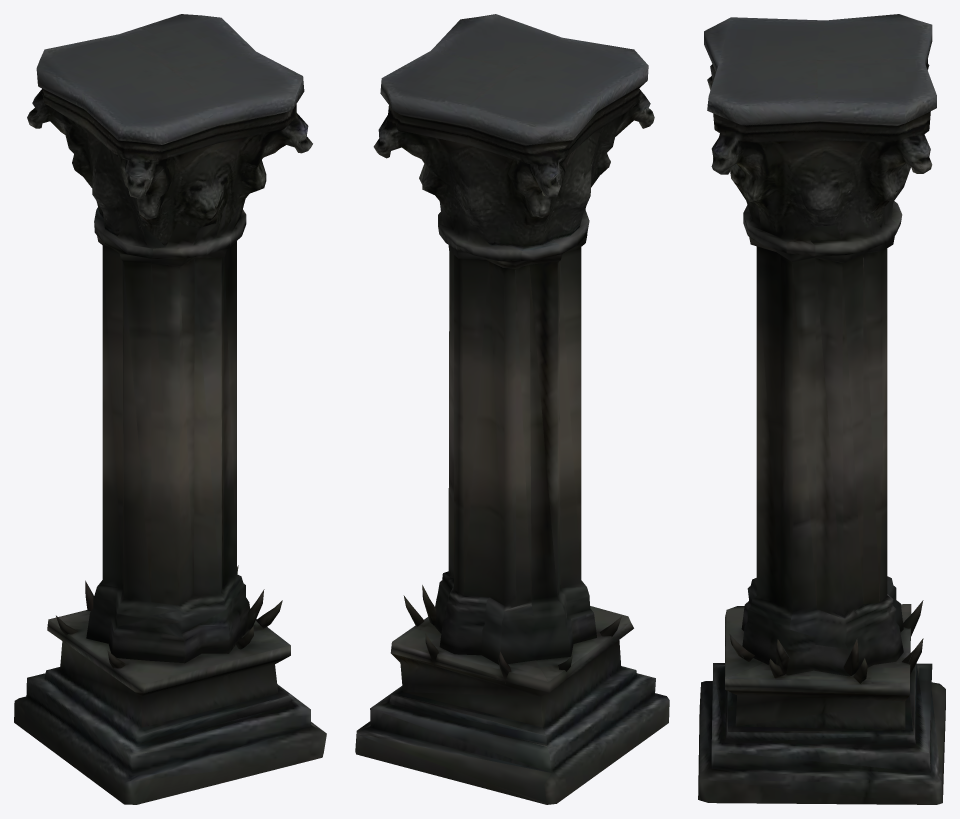
Rendered from pillar.glb.
3 renders of one model, left to right at view 1: azimuth 30°, elevation 25°; view 2: azimuth 150°, elevation 25°; view 3: azimuth 270°, elevation 25°, orthographic. The views are drawn at different scales.
Parts seen in each view (by area): view 1: tripo_node_d495a5cc-e12e-4ecb-8615-1919cb35f3cf; view 2: tripo_node_d495a5cc-e12e-4ecb-8615-1919cb35f3cf; view 3: tripo_node_d495a5cc-e12e-4ecb-8615-1919cb35f3cf.
Part boxes in pixels (x1,y1,x2,y2): tripo_node_d495a5cc-e12e-4ecb-8615-1919cb35f3cf: [14, 14, 326, 804]; tripo_node_d495a5cc-e12e-4ecb-8615-1919cb35f3cf: [355, 14, 669, 804]; tripo_node_d495a5cc-e12e-4ecb-8615-1919cb35f3cf: [698, 14, 945, 804].
Bounding box in the file's own units: 0.3184 × 0.998 × 0.3223.
Materials: 1 (1 with a texture image).
